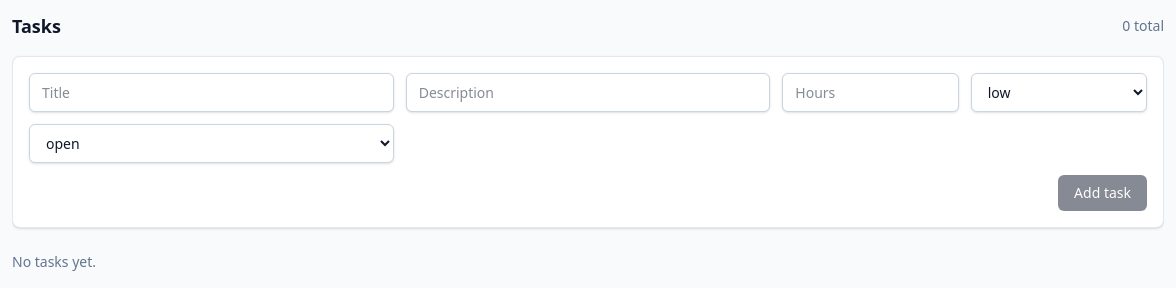
Scenario: Tasks › disables Add task until a title is entered
Check: the text "No tasks yet." is shown, box [12,252,96,271]
Check: the button "Add task" is disabled, box [1058,175,1147,211]
Type "Plan sprint" into the field with placeholder "Title" at coordinates (211, 92), box [29,73,394,112]
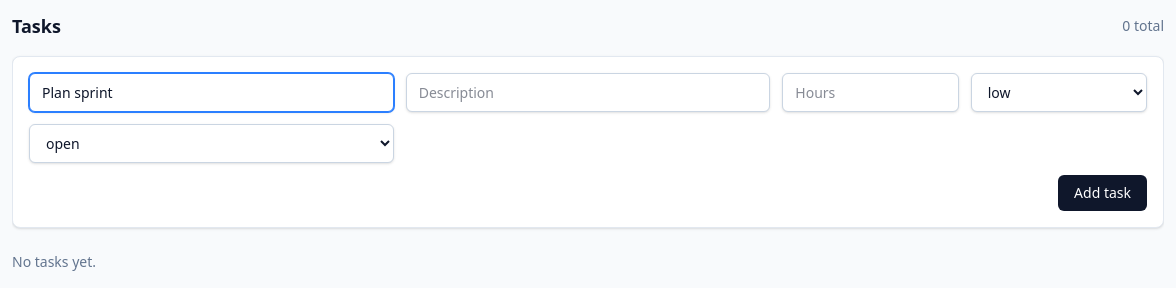
Check: the button "Add task" is enabled, box [1058,175,1147,211]
